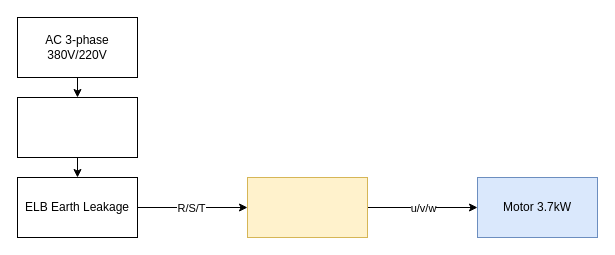
This 615x255 diagram has some shape labels left out. Here are the shapes that lost their labels. From the top down, the centre of each, then its label:
At point 77,127: "MCCB main breaker".
At point 307,207: "VFD LS Electric".
